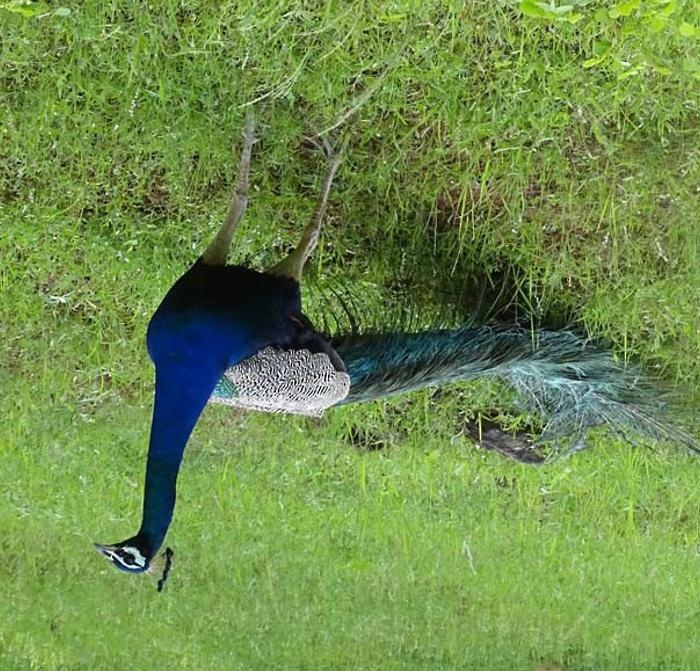peacock: (68, 218, 616, 605)
